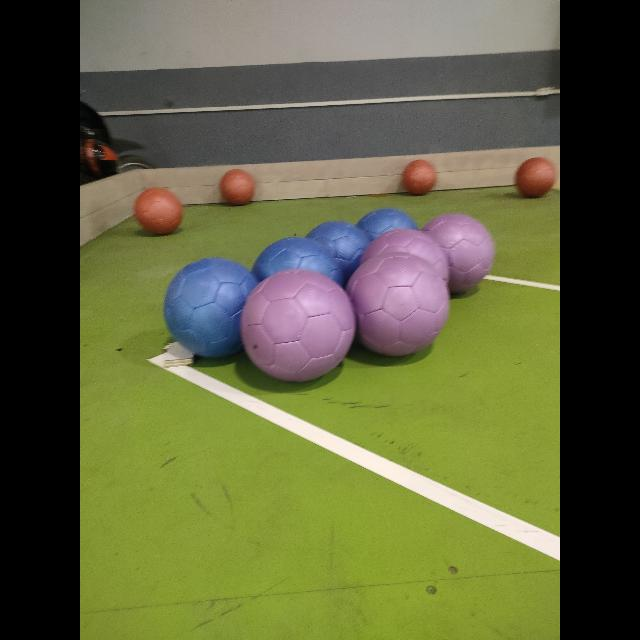B: (164, 258, 258, 356), (254, 237, 342, 313), (306, 221, 370, 285), (352, 206, 418, 258)
P: (241, 269, 355, 381), (346, 254, 449, 356), (366, 230, 450, 302), (424, 211, 492, 289)
R: (134, 188, 182, 234), (516, 158, 556, 196), (220, 168, 256, 204), (403, 160, 437, 194)
